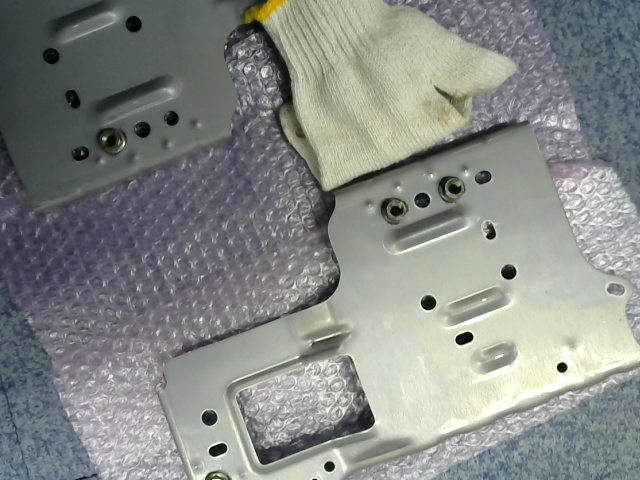dog: (94, 127, 126, 157), (380, 198, 409, 225), (439, 176, 466, 204)
